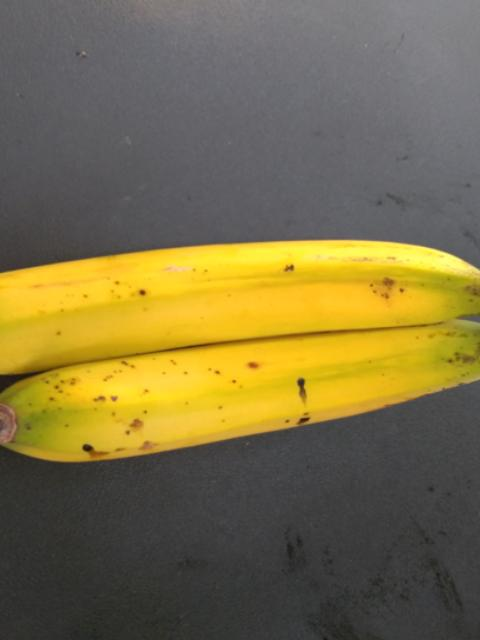freshripe: (0, 232, 459, 376)
ripe: (0, 336, 454, 493)
